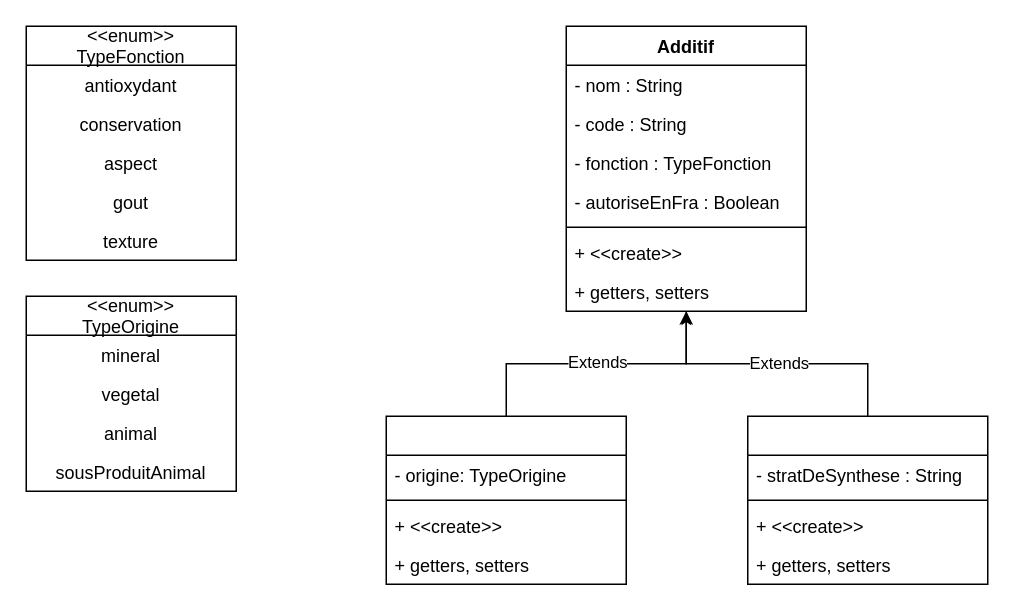
This 1014x615 diagram has some shape labels left out. Each missing label, with the box of its shape:
AdditifDeSynthese: (746, 415, 988, 584)
AdditifNaturel: (385, 415, 626, 584)
